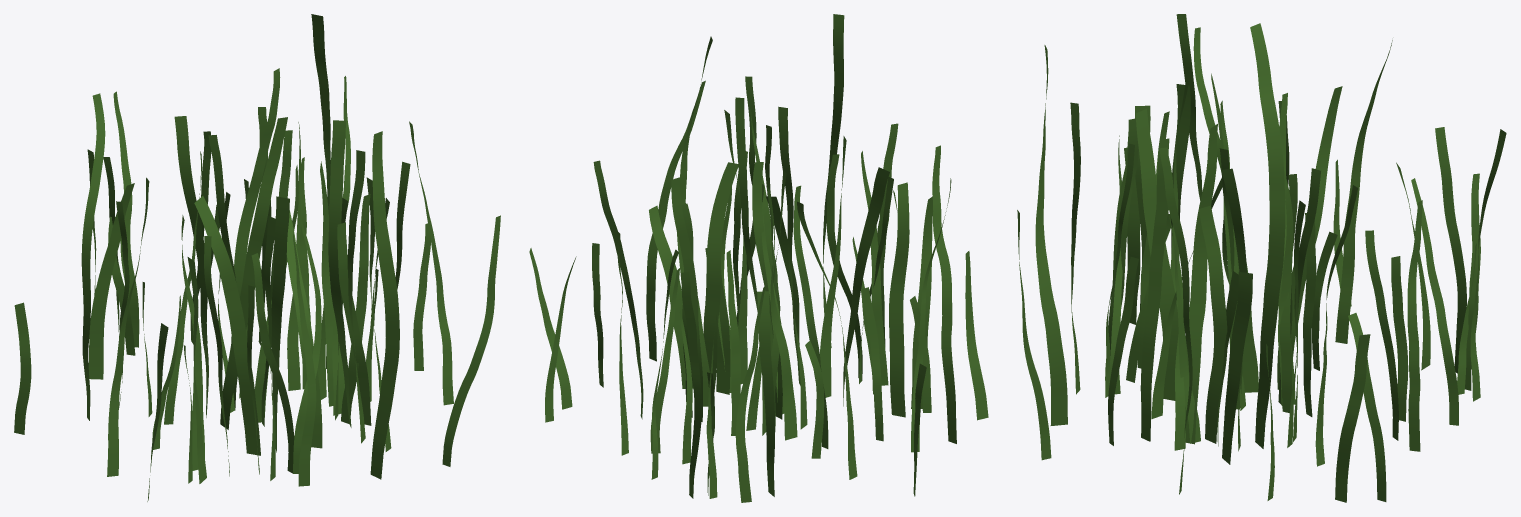
Rendered from plant_swamp_kelp_giant_A_dense.fbx.
3 views of the same model, side by side, from view 1: azimuth 30°, elevation 25°; view 2: azimuth 150°, elevation 25°; view 3: azimuth 270°, elevation 25° (orthographic). The views are drawn at different scales.
Parts seen in each view (by area): view 1: plant_swamp_kelp_giant_A_dense; view 2: plant_swamp_kelp_giant_A_dense; view 3: plant_swamp_kelp_giant_A_dense.
Boxes of the visible parts, x1,y1,x2,y2 form: plant_swamp_kelp_giant_A_dense: [14, 14, 500, 501]; plant_swamp_kelp_giant_A_dense: [529, 14, 988, 502]; plant_swamp_kelp_giant_A_dense: [1017, 14, 1506, 502].
Size of the model in its own units: 617 by 564 by 598.
